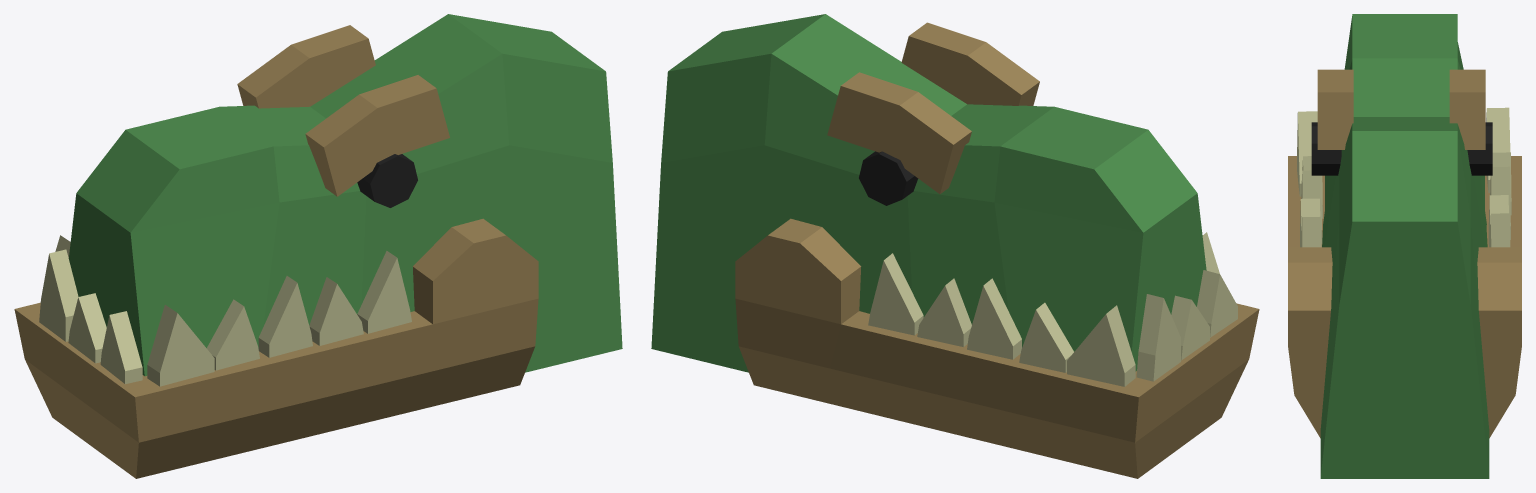
File: t-rex+head.fbx
3 renders of one model, left to right at view 1: azimuth 30°, elevation 25°; view 2: azimuth 150°, elevation 25°; view 3: azimuth 270°, elevation 25°, orthographic. The views are drawn at different scales.
Visible parts, largest first — view 1: pCube99; view 2: pCube99; view 3: pCube99.
Boxes of the visible parts, <box> form: pCube99: <box>14,14,622,478</box>; pCube99: <box>651,14,1259,478</box>; pCube99: <box>1288,14,1521,478</box>.
Bounding box in the file's own units: 1.05 × 0.6401 × 0.4354.
